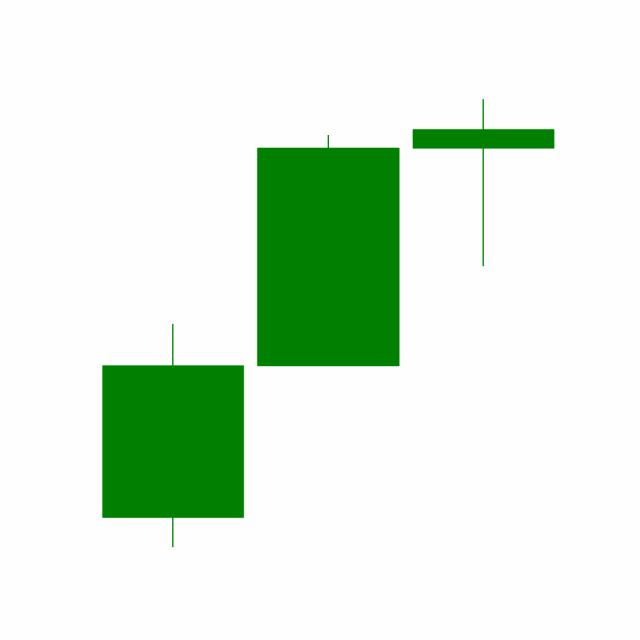Marubozu: (249, 132, 406, 368)
